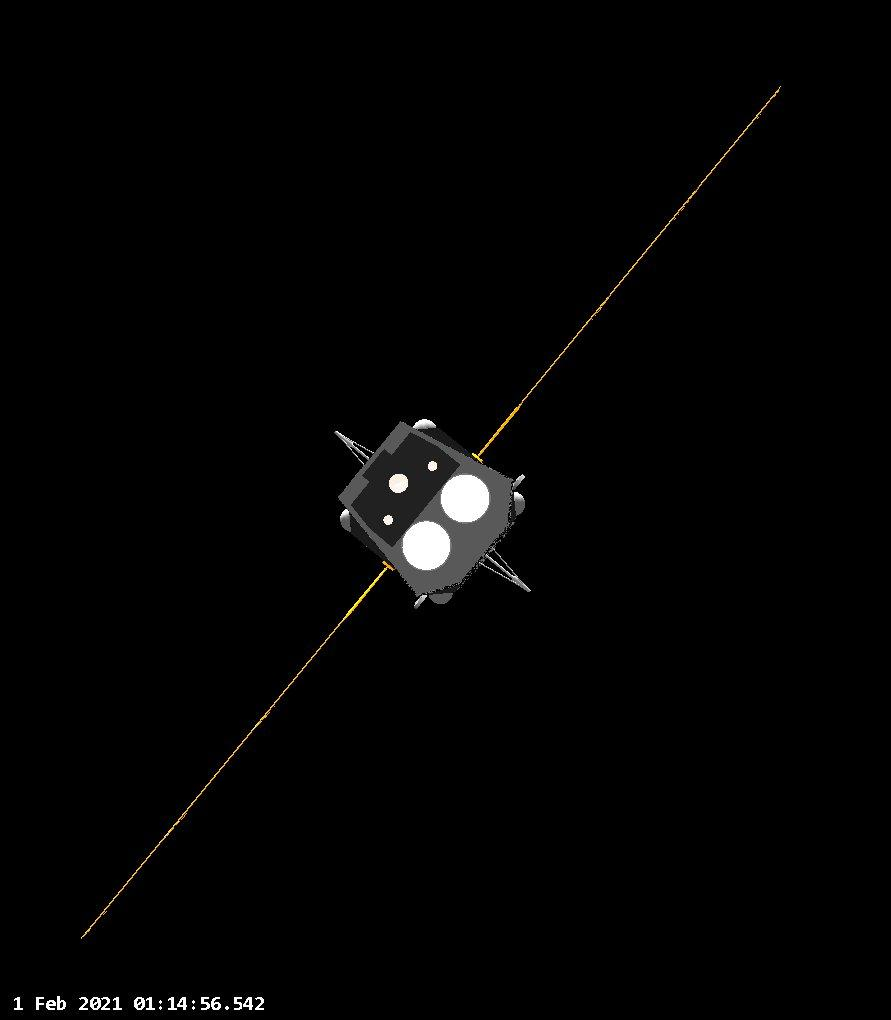antenna: (477, 541, 534, 597), (398, 520, 454, 573), (440, 471, 491, 526), (334, 427, 379, 468), (388, 469, 412, 496), (382, 511, 396, 527), (425, 459, 442, 471)
body: (337, 414, 527, 607)
solar: (74, 554, 397, 945), (468, 77, 787, 465)
